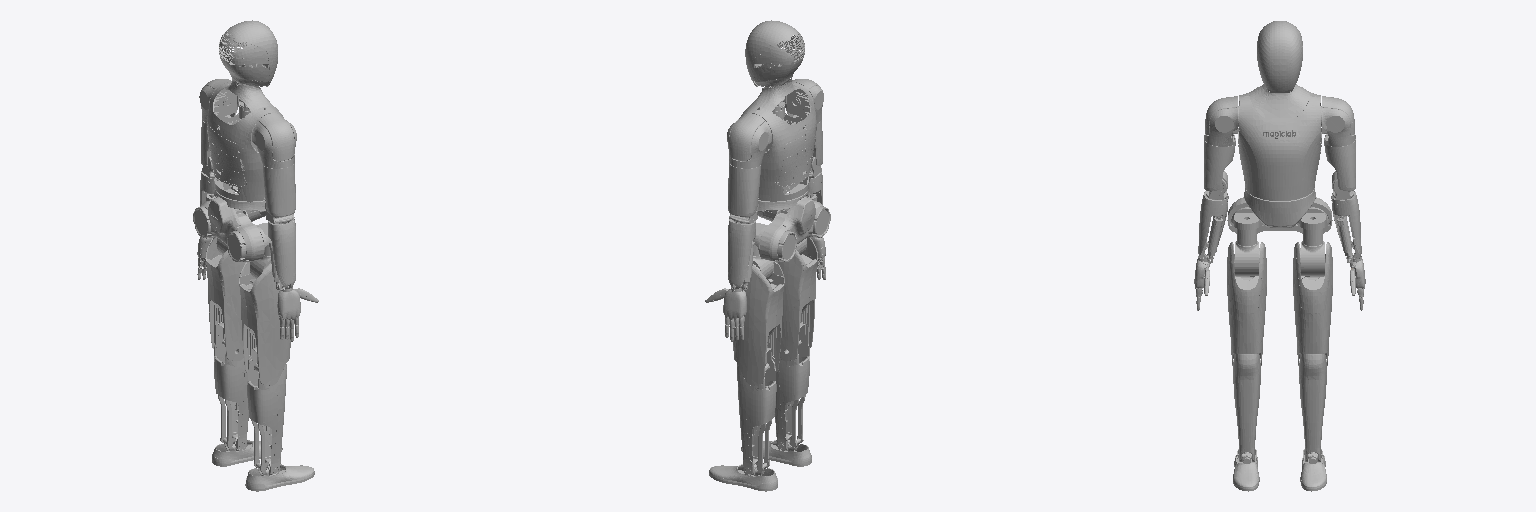
--- Render facts (derived) ---
3 views of the same robot in one strip: view 1: azimuth 30°, elevation 25°; view 2: azimuth 150°, elevation 25°; view 3: azimuth 270°, elevation 25° (orthographic).
Robot: Magicbot-Gen1 — 58 links, 57 joints (52 revolute, 5 fixed); root link pelvis; default pose: all joints at 0.
Links seen in each view (by area): view 1: link_wy, LINK_HIP_PITCH_R, LINK_HIP_PITCH_L, LINK_KNEE_PITCH_R, pelvis, LINK_KNEE_PITCH_L, link_hp, link_ra5, link_ra3, LINK_ANKLE_ROLL_R, link_ra1, link_ra2 (+2 smaller); view 2: link_wy, LINK_HIP_PITCH_L, LINK_HIP_PITCH_R, LINK_KNEE_PITCH_L, pelvis, LINK_KNEE_PITCH_R, link_hp, link_la5, link_la3, LINK_ANKLE_ROLL_L, link_la1, link_la2 (+2 smaller); view 3: link_wy, LINK_HIP_PITCH_L, LINK_HIP_PITCH_R, link_hp, LINK_KNEE_PITCH_R, LINK_KNEE_PITCH_L, link_wr, link_la5, link_ra5, link_la3, link_ra3, LINK_HIP_YAW_L (+8 smaller).
Boxes of the visible links, bbox=[...] form: link_wy: bbox=[207, 36, 283, 201]; LINK_HIP_PITCH_R: bbox=[239, 261, 292, 385]; LINK_HIP_PITCH_L: bbox=[205, 237, 245, 360]; LINK_KNEE_PITCH_R: bbox=[247, 347, 286, 475]; pelvis: bbox=[193, 196, 266, 261]; LINK_KNEE_PITCH_L: bbox=[214, 322, 248, 450]; link_hp: bbox=[219, 20, 277, 86]; link_ra5: bbox=[268, 219, 295, 289]; link_ra3: bbox=[263, 163, 295, 217]; LINK_ANKLE_ROLL_R: bbox=[245, 463, 314, 491]; link_ra1: bbox=[259, 113, 294, 160]; link_ra2: bbox=[252, 116, 296, 168]; link_wy: bbox=[741, 35, 816, 201]; LINK_HIP_PITCH_L: bbox=[733, 261, 784, 385]; LINK_HIP_PITCH_R: bbox=[778, 237, 817, 360]; LINK_KNEE_PITCH_L: bbox=[737, 348, 776, 475]; pelvis: bbox=[757, 197, 830, 261]; LINK_KNEE_PITCH_R: bbox=[775, 322, 809, 450]; link_hp: bbox=[745, 20, 804, 87]; link_la5: bbox=[728, 219, 755, 289]; link_la3: bbox=[728, 163, 760, 217]; LINK_ANKLE_ROLL_L: bbox=[709, 463, 777, 491]; link_la1: bbox=[729, 113, 764, 160]; link_la2: bbox=[727, 116, 771, 168]; link_wy: bbox=[1238, 36, 1321, 200]; LINK_HIP_PITCH_L: bbox=[1293, 242, 1332, 365]; LINK_HIP_PITCH_R: bbox=[1227, 242, 1266, 365]; link_hp: bbox=[1257, 21, 1302, 92]; LINK_KNEE_PITCH_R: bbox=[1233, 354, 1260, 461]; LINK_KNEE_PITCH_L: bbox=[1299, 354, 1326, 461]; link_wr: bbox=[1244, 188, 1315, 227]; link_la5: bbox=[1331, 191, 1361, 262]; link_ra5: bbox=[1198, 191, 1228, 263]; link_la3: bbox=[1324, 139, 1355, 191]; link_ra3: bbox=[1204, 140, 1235, 191]; LINK_HIP_YAW_L: bbox=[1301, 229, 1324, 275].
Bounding box of the posed robot: 0.34 × 0.6094 × 1.74 m (x, y, z).
Meshes: 54 distinct files referenced, 54 mesh visuals loaded (54 binary STL).

URDF robot description (Magicbot-Gen1):
<?xml version="1.0" encoding="utf-8"?>
<robot
  name="Magicbot-Gen1">
  <link
    name="pelvis">
    <inertial>
      <origin
        xyz="-0.08675255 0.00000919 0.01295897"
        rpy="0 0 0" />
      <mass
        value="6.32180704" />
      <inertia
        ixx="0.0850604"
        ixy="0.0000019"
        ixz="-0.00207791"
        iyy="0.01988411"
        iyz="0.00000527"
        izz="0.08386948" />
    </inertial>
    <visual>
      <origin
        xyz="0 0 0"
        rpy="0 0 0" />
      <geometry>
        <mesh
          filename="../meshes/pelvis.STL" />
      </geometry>
      <material
        name="">
        <color
          rgba="0.75294 0.75294 0.75294 1" />
      </material>
    </visual>
    <collision>
      <origin
        xyz="0 0 0"
        rpy="0 0 0" />
      <geometry>
        <mesh
          filename="../meshes/pelvis.STL" />
      </geometry>
    </collision>
  </link>
  <link
    name="LINK_HIP_ROLL_L">
    <inertial>
      <origin
        xyz="-0.0307534 -3.55E-06 0.0214845"
        rpy="0 0 0" />
      <mass
        value="0.47382" />
      <inertia
        ixx="0.00060312"
        ixy="1E-08"
        ixz="-0.00015188"
        iyy="0.0007199"
        iyz="0"
        izz="0.00083822" />
    </inertial>
    <visual>
      <origin
        xyz="0 0 0"
        rpy="0 0 0" />
      <geometry>
        <mesh
          filename="../meshes/LINK_HIP_ROLL_L.STL" />
      </geometry>
      <material
        name="">
        <color
          rgba="0.75294 0.75294 0.75294 1" />
      </material>
    </visual>
    <collision>
      <origin
        xyz="0 0 0"
        rpy="0 0 0" />
      <geometry>
        <mesh
          filename="../meshes/LINK_HIP_ROLL_L.STL" />
      </geometry>
    </collision>
  </link>
  <joint
    name="JOINT_HIP_ROLL_L"
    type="revolute">
    <origin
      xyz="0 0.1175 0"
      rpy="0 0 0" />
    <parent
      link="pelvis" />
    <child
      link="LINK_HIP_ROLL_L" />
    <axis
      xyz="1 0 0" />
    <limit
      lower="-0.349"
      upper="0.523"
      effort="360"
      velocity="15" />
  </joint>
  <link
    name="LINK_HIP_YAW_L">
    <inertial>
      <origin
        xyz="-0.00106248 -0.00273398 -0.08172446"
        rpy="0 0 0" />
      <mass
        value="3.3831774" />
      <inertia
        ixx="0.0025817"
        ixy="-1.749E-05"
        ixz="-5.305E-05"
        iyy="0.01518954"
        iyz="-0.0003372"
        izz="0.00449534" />
    </inertial>
    <visual>
      <origin
        xyz="0 0 0"
        rpy="0 0 0" />
      <geometry>
        <mesh
          filename="../meshes/LINK_HIP_YAW_L.STL" />
      </geometry>
      <material
        name="">
        <color
          rgba="0.75294 0.75294 0.75294 1" />
      </material>
    </visual>
    <collision>
      <origin
        xyz="0 0 0"
        rpy="0 0 0" />
      <geometry>
        <mesh
          filename="../meshes/LINK_HIP_YAW_L.STL" />
      </geometry>
    </collision>
  </link>
  <joint
    name="JOINT_HIP_YAW_L"
    type="revolute">
    <origin
      xyz="0 0 0"
      rpy="0 0 0" />
    <parent
      link="LINK_HIP_ROLL_L" />
    <child
      link="LINK_HIP_YAW_L" />
    <axis
      xyz="0 0 1" />
    <limit
      lower="-0.262"
      upper="0.523"
      effort="60"
      velocity="15" />
  </joint>
  <link
    name="LINK_HIP_PITCH_L">
    <inertial>
      <origin
        xyz="-0.01293367 -0.00410579 -0.15592136"
        rpy="0 0 0" />
      <mass
        value="5.04878347" />
      <inertia
        ixx="0.05451915"
        ixy="4.351E-05"
        ixz="-0.00131968"
        iyy="0.05697118"
        iyz="-8.554E-05"
        izz="0.01571501" />
    </inertial>
    <visual>
      <origin
        xyz="0 0 0"
        rpy="0 0 0" />
      <geometry>
        <mesh
          filename="../meshes/LINK_HIP_PITCH_L.STL" />
      </geometry>
      <material
        name="">
        <color
          rgba="0.75294 0.75294 0.75294 1" />
      </material>
    </visual>
    <collision>
      <origin
        xyz="0 0 0"
        rpy="0 0 0" />
      <geometry>
        <mesh
          filename="../meshes/LINK_HIP_PITCH_L.STL" />
      </geometry>
    </collision>
  </link>
  <joint
    name="JOINT_HIP_PITCH_L"
    type="revolute">
    <origin
      xyz="0 0 -0.118"
      rpy="0 0 0" />
    <parent
      link="LINK_HIP_YAW_L" />
    <child
      link="LINK_HIP_PITCH_L" />
    <axis
      xyz="0 1 0" />
    <limit
      lower="-2.093"
      upper="0.698"
      effort="360"
      velocity="15" />
  </joint>
  <link
    name="LINK_KNEE_PITCH_L">
    <inertial>
      <origin
        xyz="0.02883341 0.00126447 -0.12048006"
        rpy="0 0 0" />
      <mass
        value="3.37617301" />
      <inertia
        ixx="0.04840952"
        ixy="3.72E-05"
        ixz="0.00187978"
        iyy="0.04874275"
        iyz="-0.00049369"
        izz="0.00494927" />
    </inertial>
    <visual>
      <origin
        xyz="0 0 0"
        rpy="0 0 0" />
      <geometry>
        <mesh
          filename="../meshes/LINK_KNEE_PITCH_L.STL" />
      </geometry>
      <material
        name="">
        <color
          rgba="0.75294 0.75294 0.75294 1" />
      </material>
    </visual>
    <collision>
      <origin
        xyz="0 0 0"
        rpy="0 0 0" />
      <geometry>
        <mesh
          filename="../meshes/LINK_KNEE_PITCH_L.STL" />
      </geometry>
    </collision>
  </link>
  <joint
    name="JOINT_KNEE_PITCH_L"
    type="revolute">
    <origin
      xyz="-0.03295 0 -0.3875"
      rpy="0 0 0" />
    <parent
      link="LINK_HIP_PITCH_L" />
    <child
      link="LINK_KNEE_PITCH_L" />
    <axis
      xyz="0 1 0" />
    <limit
      lower="0"
      upper="2.617"
      effort="360"
      velocity="15" />
  </joint>
  <link
    name="LINK_ANKLE_PITCH_L">
    <inertial>
      <origin
        xyz="0 0 -0.00869504"
        rpy="0 0 0" />
      <mass
        value="0.0724143" />
      <inertia
        ixx="1.073E-05"
        ixy="0"
        ixz="0"
        iyy="1.156E-05"
        iyz="0"
        izz="1.127E-05" />
    </inertial>
    <visual>
      <origin
        xyz="0 0 0"
        rpy="0 0 0" />
      <geometry>
        <mesh
          filename="../meshes/LINK_ANKLE_PITCH_L.STL" />
      </geometry>
      <material
        name="">
        <color
          rgba="0.75294 0.75294 0.75294 1" />
      </material>
    </visual>
    <collision>
      <origin
        xyz="0 0 0"
        rpy="0 0 0" />
      <geometry>
        <mesh
          filename="../meshes/LINK_ANKLE_PITCH_L.STL" />
      </geometry>
    </collision>
  </link>
  <joint
    name="JOINT_ANKLE_PITCH_L"
    type="revolute">
    <origin
      xyz="0.035056 0 -0.3867"
      rpy="0 0 0" />
    <parent
      link="LINK_KNEE_PITCH_L" />
    <child
      link="LINK_ANKLE_PITCH_L" />
    <axis
      xyz="0 1 0" />
    <limit
      lower="-1.308"
      upper="0.523"
      effort="120"
      velocity="15" />
  </joint>
  <link
    name="LINK_ANKLE_ROLL_L">
    <inertial>
      <origin
        xyz="0.01816289 0.00118755 -0.02613973"
        rpy="0 0 0" />
      <mass
        value="0.80130806" />
      <inertia
        ixx="0.00072313"
        ixy="-6.6E-07"
        ixz="0.0004055"
        iyy="0.00377636"
        iyz="9.94E-06"
        izz="0.00379858" />
    </inertial>
    <visual>
      <origin
        xyz="0 0 0"
        rpy="0 0 0" />
      <geometry>
        <mesh
          filename="../meshes/LINK_ANKLE_ROLL_L.STL" />
      </geometry>
      <material
        name="">
        <color
          rgba="0.75294 0.75294 0.75294 1" />
      </material>
    </visual>
    <collision>
      <origin
        xyz="0 0 0"
        rpy="0 0 0" />
      <geometry>
        <mesh
          filename="../meshes/LINK_ANKLE_ROLL_L.STL" />
      </geometry>
    </collision>
  </link>
  <joint
    name="JOINT_ANKLE_ROLL_L"
    type="revolute">
    <origin
      xyz="0 0 -0.01"
      rpy="0 0 0" />
    <parent
      link="LINK_ANKLE_PITCH_L" />
    <child
      link="LINK_ANKLE_ROLL_L" />
    <axis
      xyz="1 0 0" />
    <limit
      lower="-0.349"
      upper="0.349"
      effort="120"
      velocity="15" />
  </joint>
  <link
    name="LINK_HIP_ROLL_R">
    <inertial>
      <origin
        xyz="-0.0307534 -3.59E-06 0.0214845"
        rpy="0 0 0" />
      <mass
        value="0.47383286" />
      <inertia
        ixx="0.00060312"
        ixy="1E-08"
        ixz="-0.00015188"
        iyy="0.0007199"
        iyz="0"
        izz="0.00083822" />
    </inertial>
    <visual>
      <origin
        xyz="0 0 0"
        rpy="0 0 0" />
      <geometry>
        <mesh
          filename="../meshes/LINK_HIP_ROLL_R.STL" />
      </geometry>
      <material
        name="">
        <color
          rgba="0.75294 0.75294 0.75294 1" />
      </material>
    </visual>
    <collision>
      <origin
        xyz="0 0 0"
        rpy="0 0 0" />
      <geometry>
        <mesh
          filename="../meshes/LINK_HIP_ROLL_R.STL" />
      </geometry>
    </collision>
  </link>
  <joint
    name="JOINT_HIP_ROLL_R"
    type="revolute">
    <origin
      xyz="0 -0.1175 0"
      rpy="0 0 0" />
    <parent
      link="pelvis" />
    <child
      link="LINK_HIP_ROLL_R" />
    <axis
      xyz="1 0 0" />
    <limit
      lower="-0.523"
      upper="0.349"
      effort="360"
      velocity="15" />
  </joint>
  <link
    name="LINK_HIP_YAW_R">
    <inertial>
      <origin
        xyz="-0.00100961 0.00273909 -0.08170498"
        rpy="0 0 0" />
      <mass
        value="3.38317107" />
      <inertia
        ixx="0.01444072"
        ixy="2.4146E-05"
        ixz="-5.55E-05"
        iyy="0.01580205"
        iyz="0.00031688"
        izz="0.00469921" />
    </inertial>
    <visual>
      <origin
        xyz="0 0 0"
        rpy="0 0 0" />
      <geometry>
        <mesh
          filename="../meshes/LINK_HIP_YAW_R.STL" />
      </geometry>
      <material
        name="">
        <color
          rgba="0.75294 0.75294 0.75294 1" />
      </material>
    </visual>
    <collision>
      <origin
        xyz="0 0 0"
        rpy="0 0 0" />
      <geometry>
        <mesh
          filename="../meshes/LINK_HIP_YAW_R.STL" />
      </geometry>
    </collision>
  </link>
  <joint
    name="JOINT_HIP_YAW_R"
    type="revolute">
    <origin
      xyz="0 0 0"
      rpy="0 0 0" />
    <parent
      link="LINK_HIP_ROLL_R" />
    <child
      link="LINK_HIP_YAW_R" />
    <axis
      xyz="0 0 1" />
    <limit
      lower="-0.523"
      upper="0.262"
      effort="60"
      velocity="15" />
  </joint>
  <link
    name="LINK_HIP_PITCH_R">
    <inertial>
      <origin
        xyz="-0.01160838 0.00408093 -0.15539802"
        rpy="0 0 0" />
      <mass
        value="5.04801978" />
      <inertia
        ixx="0.05386062"
        ixy="-0.00016145"
        ixz="-0.0003202"
        iyy="0.05538209"
        iyz="1.298E-05"
        izz="0.01474923" />
    </inertial>
    <visual>
      <origin
        xyz="0 0 0"
        rpy="0 0 0" />
      <geometry>
        <mesh
          filename="../meshes/LINK_HIP_PITCH_R.STL" />
      </geometry>
      <material
        name="">
        <color
          rgba="0.75294 0.75294 0.75294 1" />
      </material>
    </visual>
    <collision>
      <origin
        xyz="0 0 0"
        rpy="0 0 0" />
      <geometry>
        <mesh
          filename="../meshes/LINK_HIP_PITCH_R.STL" />
      </geometry>
    </collision>
  </link>
  <joint
    name="JOINT_HIP_PITCH_R"
    type="revolute">
    <origin
      xyz="0 0 -0.118"
      rpy="0 0 0" />
    <parent
      link="LINK_HIP_YAW_R" />
    <child
      link="LINK_HIP_PITCH_R" />
    <axis
      xyz="0 1 0" />
    <limit
      lower="-2.093"
      upper="0.698"
      effort="360"
      velocity="15" />
  </joint>
  <link
    name="LINK_KNEE_PITCH_R">
    <inertial>
      <origin
        xyz="0.02881522 -0.00126424 -0.12052803"
        rpy="0 0 0" />
      <mass
        value="3.37418513" />
      <inertia
        ixx="0.04839412"
        ixy="-3.873E-05"
        ixz="0.00187255"
        iyy="0.04872791"
        iyz="0.00049571"
        izz="0.00494635" />
    </inertial>
    <visual>
      <origin
        xyz="0 0 0"
        rpy="0 0 0" />
      <geometry>
        <mesh
          filename="../meshes/LINK_KNEE_PITCH_R.STL" />
      </geometry>
      <material
        name="">
        <color
          rgba="0.75294 0.75294 0.75294 1" />
      </material>
    </visual>
    <collision>
      <origin
        xyz="0 0 0"
        rpy="0 0 0" />
      <geometry>
        <mesh
          filename="../meshes/LINK_KNEE_PITCH_R.STL" />
      </geometry>
    </collision>
  </link>
  <joint
    name="JOINT_KNEE_PITCH_R"
    type="revolute">
    <origin
      xyz="-0.032951 0 -0.3875"
      rpy="0 0 0" />
    <parent
      link="LINK_HIP_PITCH_R" />
    <child
      link="LINK_KNEE_PITCH_R" />
    <axis
      xyz="0 1 0" />
    <limit
      lower="0"
      upper="2.617"
      effort="360"
      velocity="15" />
  </joint>
  <link
    name="LINK_ANKLE_PITCH_R">
    <inertial>
      <origin
        xyz="-1.27E-06 -4.51E-06 -0.00869518"
        rpy="0 0 0" />
      <mass
        value="0.0724143" />
      <inertia
        ixx="1.073E-05"
        ixy="0"
        ixz="0"
        iyy="1.156E-05"
        iyz="0"
        izz="1.127E-05" />
    </inertial>
    <visual>
      <origin
        xyz="0 0 0"
        rpy="0 0 0" />
      <geometry>
        <mesh
          filename="../meshes/LINK_ANKLE_PITCH_R.STL" />
      </geometry>
      <material
        name="">
        <color
          rgba="0.75294 0.75294 0.75294 1" />
      </material>
    </visual>
    <collision>
      <origin
        xyz="0 0 0"
        rpy="0 0 0" />
      <geometry>
        <mesh
          filename="../meshes/LINK_ANKLE_PITCH_R.STL" />
      </geometry>
    </collision>
  </link>
  <joint
    name="JOINT_ANKLE_PITCH_R"
    type="revolute">
    <origin
      xyz="0.035003 0 -0.3867"
      rpy="0 0 0" />
    <parent
      link="LINK_KNEE_PITCH_R" />
    <child
      link="LINK_ANKLE_PITCH_R" />
    <axis
      xyz="0 1 0" />
    <limit
      lower="-1.308"
      upper="0.523"
      effort="120"
      velocity="15" />
  </joint>
  <link
    name="LINK_ANKLE_ROLL_R">
    <inertial>
      <origin
        xyz="0.01734636 -0.00124434 -0.02593559"
        rpy="0 0 0" />
      <mass
        value="0.79424534" />
      <inertia
        ixx="0.00071651"
        ixy="-0.00000315"
        ixz="0.00039418"
        iyy="0.00366741"
        iyz="-0.00001032"
        izz="0.00368907" />
    </inertial>
    <visual>
      <origin
        xyz="0 0 0"
        rpy="0 0 0" />
      <geometry>
        <mesh
          filename="../meshes/LINK_ANKLE_ROLL_R.STL" />
      </geometry>
      <material
        name="">
        <color
          rgba="0.75294 0.75294 0.75294 1" />
      </material>
    </visual>
    <collision>
      <origin
        xyz="0 0 0"
        rpy="0 0 0" />
      <geometry>
        <mesh
          filename="../meshes/LINK_ANKLE_ROLL_R.STL" />
      </geometry>
    </collision>
  </link>
  <joint
    name="JOINT_ANKLE_ROLL_R"
    type="revolute">
    <origin
      xyz="0 0 -0.01"
      rpy="4.0892E-05 0.00014855 0" />
    <parent
      link="LINK_ANKLE_PITCH_R" />
    <child
      link="LINK_ANKLE_ROLL_R" />
    <axis
      xyz="1 0 0" />
    <limit
      lower="-0.349"
      upper="0.349"
      effort="120"
      velocity="15" />
  </joint>
  <link
    name="link_wr">
    <inertial>
      <origin
        xyz="-0.01476378 -5.405E-05 0.01059222"
        rpy="0 0 0" />
      <mass
        value="2.52447836" />
      <inertia
        ixx="0.0053535"
        ixy="1.791E-05"
        ixz="-0.00045241"
        iyy="0.01047452"
        iyz="-4.49E-06"
        izz="0.01207148" />
    </inertial>
    <visual>
      <origin
        xyz="0 0 0"
        rpy="0 0 0" />
      <geometry>
        <mesh
          filename="../meshes/link_wr.STL" />
      </geometry>
      <material
        name="">
        <color
          rgba="0.75294 0.75294 0.75294 1" />
      </material>
    </visual>
    <collision>
      <origin
        xyz="0 0 0"
        rpy="0 0 0" />
      <geometry>
        <mesh
          filename="../meshes/link_wr.STL" />
      </geometry>
    </collision>
  </link>
  <joint
    name="joint_wr"
    type="revolute">
    <origin
      xyz="-0.016 0 0.083"
      rpy="0 0 0" />
    <parent
      link="pelvis" />
    <child
      link="link_wr" />
    <axis
      xyz="1 0 0" />
    <limit
      lower="-0.349"
      upper="0.349"
      effort="200"
      velocity="5" />
  </joint>
  <link
    name="link_wy">
    <inertial>
      <origin
        xyz="-0.01668516 -0.00085362 0.24665805"
        rpy="0 0 0" />
      <mass
        value="15.00776677" />
      <inertia
        ixx="0.20052034"
        ixy="9.235E-05"
        ixz="0.00449781"
        iyy="0.15246472"
        iyz="-0.00140118"
        izz="0.10823744" />
    </inertial>
    <visual>
      <origin
        xyz="0 0 0"
        rpy="0 0 0" />
      <geometry>
        <mesh
          filename="../meshes/link_wy.STL" />
      </geometry>
      <material
        name="">
        <color
          rgba="0.75294 0.75294 0.75294 1" />
      </material>
    </visual>
    <collision>
      <origin
        xyz="0 0 0"
        rpy="0 0 0" />
      <geometry>
        <mesh
          filename="../meshes/link_wy.STL" />
      </geometry>
    </collision>
  </link>
  <joint
    name="joint_wy"
    type="revolute">
    <origin
      xyz="0 0 0"
      rpy="0 0 0" />
    <parent
      link="link_wr" />
    <child
      link="link_wy" />
    <axis
      xyz="0 0 1" />
    <limit
      lower="-1.57"
      upper="1.57"
      effort="100"
      velocity="5" />
  </joint>
  <link
    name="link_hy">
    <inertial>
      <origin
        xyz="-0.00331412 0.00160025 -0.06645069"
        rpy="0 0 0" />
      <mass
        value="1.30579318" />
      <inertia
        ixx="0.00609465"
        ixy="7.9E-07"
        ixz="0.00029629"
        iyy="0.0061687"
        iyz="-0.00015242"
        izz="0.00089446" />
    </inertial>
    <visual>
      <origin
        xyz="0 0 0"
        rpy="0 0 0" />
      <geometry>
        <mesh
          filename="../meshes/link_hy.STL" />
      </geometry>
      <material
        name="">
        <color
          rgba="0.75294 0.75294 0.75294 1" />
      </material>
    </visual>
    <collision>
      <origin
        xyz="0 0 0"
        rpy="0 0 0" />
      <geometry>
        <mesh
          filename="../meshes/link_hy.STL" />
      </geometry>
    </collision>
  </link>
  <joint
    name="joint_hy"
    type="revolute">
    <origin
      xyz="-0.0059657 0 0.50108"
      rpy="0 0 0" />
    <parent
      link="link_wy" />
    <child
      link="link_hy" />
    <axis
      xyz="0 0 1" />
    <limit
      lower="-1.047"
      upper="1.047"
      effort="60"
      velocity="15" />
  </joint>
  <link
    name="link_hp">
    <inertial>
      <origin
        xyz="0.01957006 0.00043733 0.08360341"
        rpy="0 0 0" />
      <mass
        value="1.75103035" />
      <inertia
        ixx="0.00836393"
        ixy="6.102E-05"
        ixz="0.0010216"
        iyy="0.0100424"
        iyz="-3.969E-05"
        izz="0.00668716" />
    </inertial>
    <visual>
      <origin
        xyz="0 0 0"
        rpy="0 0 0" />
      <geometry>
        <mesh
          filename="../meshes/link_hp.STL" />
      </geometry>
      <material
        name="">
        <color
          rgba="0.75294 0.75294 0.75294 1" />
      </material>
    </visual>
    <collision>
      <origin
        xyz="0 0 0"
        rpy="0 0 0" />
      <geometry>
        <mesh
          filename="../meshes/link_hp.STL" />
      </geometry>
    </collision>
  </link>
  <joint
    name="joint_hp"
    type="revolute">
    <origin
      xyz="-0.0065 2.3658E-05 0"
      rpy="0 0 0" />
    <parent
      link="link_hy" />
    <child
      link="link_hp" />
    <axis
      xyz="0 1 0" />
    <limit
      lower="-0.349"
      upper="0.349"
      effort="60"
      velocity="15" />
  </joint>
  <link name="link_head_rgbd">
  </link>
  <joint name="joint_head_rgbd" type="fixed">
    <parent link="link_hp"/>
    <child link="link_head_rgbd"/>
    <origin rpy="0.0 2.1198769095 0.0" xyz="0.06093 0.0325 -0.02199"/>
  </joint>
  <link name="link_head_rgb_f">
  </link>
  <joint name="joint_head_rgb_f" type="fixed">
    <parent link="link_hp"/>
    <child link="link_head_rgb_f"/>
    <origin rpy="0.0 1.76278 0.0" xyz="0.09628 0.000 0.03975"/>
  </joint>
  <link name="link_head_rgb_l">
  </link>
  <joint name="joint_head_rgb_l" type="fixed">
    <parent link="link_head_rgb_f"/>
    <child link="link_head_rgb_l"/>
    <origin rpy="-0.61087 0.0 0.0" xyz="0.00682 0.03211 0.0"/>
  </joint>
  <link name="link_head_rgb_r">
  </link>
  <joint name="joint_head_rgb_r" type="fixed">
    <parent link="link_head_rgb_f"/>
    <child link="link_head_rgb_r"/>
    <origin rpy="0.61087 0.0 0.0" xyz="0.00682 -0.03211 0.0"/>
  </joint>
  <link
    name="link_la1">
    <inertial>
      <origin
        xyz="-0.0018413 -0.0024301 -0.00037468"
        rpy="0 0 0" />
      <mass
        value="1.4531" />
      <inertia
        ixx="0.0018652"
        ixy="-6.3E-07"
        ixz="4.1E-07"
        iyy="0.001952"
        iyz="3.302E-05"
        izz="0.0020047" />
    </inertial>
    <visual>
      <origin
        xyz="0 0 0"
        rpy="0 0 0" />
      <geometry>
        <mesh
          filename="../meshes/link_la1.STL" />
      </geometry>
      <material
        name="">
        <color
          rgba="0.75294 0.75294 0.75294 1" />
      </material>
    </visual>
    <collision>
      <origin
        xyz="0 0 0"
        rpy="0 0 0" />
      <geometry>
        <mesh
          filename="../meshes/link_la1.STL" />
      </geometry>
    </collision>
  </link>
  <joint
    name="joint_la1"
    type="revolute">
    <origin
      xyz="-0.0078982 0.19799 0.346"
      rpy="0 0 0" />
    <parent
      link="link_wy" />
    <child
      link="link_la1" />
    <axis
      xyz="0 1 0" />
    <limit
      lower="-2.756"
      upper="2.756"
      effort="110"
      velocity="5" />
  </joint>
  <link
    name="link_la2">
    <inertial>
      <origin
        xyz="-0.00019279 0.0045265 -0.044564"
        rpy="0 0 0" />
      <mass
        value="0.53748" />
      <inertia
        ixx="0.0018012"
        ixy="-1E-07"
        ixz="6.25E-06"
        iyy="0.0025224"
        iyz="0.00019853"
        izz="0.0016985" />
    </inertial>
    <visual>
      <origin
        xyz="0 0 0"
        rpy="0 0 0" />
      <geometry>
        <mesh
          filename="../meshes/link_la2.STL" />
      </geometry>
      <material
        name="">
        <color
          rgba="0.75294 0.75294 0.75294 1" />
      </material>
    </visual>
    <collision>
      <origin
        xyz="0 0 0"
        rpy="0 0 0" />
      <geometry>
        <mesh
          filename="../meshes/link_la2.STL" />
      </geometry>
    </collision>
  </link>
  <joint
    name="joint_la2"
    type="revolute">
    <origin
      xyz="0 0 0"
      rpy="0 0 0" />
    <parent
      link="link_la1" />
    <child
      link="link_la2" />
    <axis
      xyz="1 0 0" />
    <limit
      lower="-0.262"
      upper="2.878"
      effort="110"
      velocity="5" />
  </joint>
  <link
    name="link_la3">
    <inertial>
      <origin
        xyz="-0.0018654 -0.00021946 -0.087638"
        rpy="0 0 0" />
      <mass
        value="1.784" />
      <inertia
        ixx="0.007454"
        ixy="-1.558E-05"
        ixz="-0.00021278"
        iyy="0.0074607"
        iyz="-0.00018909"
        izz="0.0017341" />
    </inertial>
    <visual>
      <origin
        xyz="0 0 0"
        rpy="0 0 0" />
      <geometry>
        <mesh
          filename="../meshes/link_la3.STL" />
      </geometry>
      <material
        name="">
        <color
          rgba="0.75294 0.75294 0.75294 1" />
      </material>
    </visual>
    <collision>
      <origin
        xyz="0 0 0"
        rpy="0 0 0" />
      <geometry>
        <mesh
          filename="../meshes/link_la3.STL" />
      </geometry>
    </collision>
  </link>
  <joint
    name="joint_la3"
    type="revolute">
    <origin
      xyz="0 0.015686 -0.10553"
      rpy="0.087267 0 0" />
    <parent
      link="link_la2" />
    <child
      link="link_la3" />
    <axis
      xyz="0 0 1" />
    <limit
      lower="-2.617"
      upper="2.617"
      effort="100"
      velocity="5" />
  </joint>
  <link
    name="link_la4">
    <inertial>
      <origin
        xyz="-0.0013088 0.00091464 0.02382"
        rpy="0 0 0" />
      <mass
        value="0.17421" />
      <inertia
        ixx="0.00014161"
        ixy="-4.81E-06"
        ixz="9.24E-06"
        iyy="0.00026983"
        iyz="-4.3E-07"
        izz="0.00022317" />
    </inertial>
    <visual>
      <origin
        xyz="0 0 0"
        rpy="0 0 0" />
      <geometry>
        <mesh
          filename="../meshes/link_la4.STL" />
      </geometry>
      <material
        name="">
        <color
          rgba="0.75294 0.75294 0.75294 1" />
      </material>
    </visual>
    <collision>
      <origin
        xyz="0 0 0"
        rpy="0 0 0" />
      <geometry>
        <mesh
          filename="../meshes/link_la4.STL" />
      </geometry>
    </collision>
  </link>
  <joint
    name="joint_la4"
    type="revolute">
    <origin
      xyz="-0.00074295 -0.0049956 -0.15199"
      rpy="-0.00018277 0.0001556 -4.8773E-05" />
    <parent
      link="link_la3" />
    <child
      link="link_la4" />
    <axis
      xyz="1 0 0" />
    <limit
      lower="-2.215"
      upper="0.174"
      effort="100"
      velocity="5" />
  </joint>
  <link
    name="link_la5">
    <inertial>
      <origin
        xyz="3.761E-05 -0.00071947 -0.15533"
        rpy="0 0 0" />
      <mass
        value="1.9293" />
      <inertia
        ixx="0.012532"
        ixy="1.3E-07"
        ixz="-4.13E-06"
        iyy="0.012776"
        iyz="0.00020442"
        izz="0.0017523" />
    </inertial>
    <visual>
      <origin
        xyz="0 0 0"
        rpy="0 0 0" />
      <geometry>
        <mesh
          filename="../meshes/link_la5.STL" />
      </geometry>
      <material
        name="">
        <color
          rgba="0.75294 0.75294 0.75294 1" />
      </material>
    </visual>
    <collision>
      <origin
        xyz="0 0 0"
        rpy="0 0 0" />
      <geometry>
        <mesh
          filename="../meshes/link_la5.STL" />
      </geometry>
    </collision>
  </link>
  <joint
    name="joint_la5"
    type="revolute">
    <origin
      xyz="0 0 0"
      rpy="0 0 0" />
    <parent
      link="link_la4" />
    <child
      link="link_la5" />
    <axis
      xyz="0 0 1" />
    <limit
      lower="-2.913"
      upper="2.913"
      effort="100"
      velocity="5" />
  </joint>
  <link
    name="link_la6">
    <inertial>
      <origin
        xyz="0 -0.010485 -1.319E-05"
        rpy="0 0 0" />
      <mass
        value="0.022425" />
      <inertia
        ixx="2.56E-06"
        ixy="0"
        ixz="0"
        iyy="4.1E-07"
        iyz="0"
        izz="2.68E-06" />
    </inertial>
    <visual>
      <origin
        xyz="0 0 0"
        rpy="0 0 0" />
      <geometry>
        <mesh
          filename="../meshes/link_la6.STL" />
      </geometry>
      <material
        name="">
        <color
          rgba="0.75294 0.75294 0.75294 1" />
      </material>
    </visual>
    <collision>
      <origin
        xyz="0 0 0"
        rpy="0 0 0" />
      <geometry>
        <mesh
          filename="../meshes/link_la6.STL" />
      </geometry>
    </collision>
  </link>
  <joint
    name="joint_la6"
    type="revolute">
    <origin
      xyz="0 0.02371 -0.29785"
      rpy="0 0 0" />
    <parent
      link="link_la5" />
    <child
      link="link_la6" />
    <axis
      xyz="1 0 0" />
    <limit
      lower="-1.099"
      upper="0.855"
      effort="40"
      velocity="5" />
  </joint>

  <!-- left hand -->
    <link
    name="hand_link">
    <inertial>
      <origin
        xyz="0.0015901 -0.00042529 -0.066296"
        rpy="0 0 0" />
      <mass
        value="0.37265" />
      <inertia
        ixx="0.00032635"
        ixy="2.66E-06"
        ixz="-1.728E-05"
        iyy="0.0004347"
        iyz="-1.723E-05"
        izz="0.00017469" />
    </inertial>
    <visual>
      <origin
        xyz="0 0 0"
        rpy="0 0 0" />
      <geometry>
        <mesh
          filename="../meshes/hand_link.STL" />
      </geometry>
      <material
        name="">
        <color
          rgba="0.75294 0.75294 0.75294 1" />
      </material>
    </visual>
    <collision>
      <origin
        xyz="0 0 0"
        rpy="0 0 0" />
      <geometry>
        <mesh
          filename="../meshes/hand_link.STL" />
      </geometry>
    </collision>
  </link>
  <joint
    name="joint_la7"
    type="revolute">
    <origin
      xyz="0 0 0"
      rpy="0 0 0" />
    <parent
      link="link_la6" />
    <child
      link="hand_link" />
    <axis
      xyz="0 1 0" />
    <limit
      lower="-0.857"
      upper="1.2036"
      effort="0"
      velocity="0" />
  </joint>


  <link
    name="link_ra1">
    <inertial>
      <origin
        xyz="0.0018431 0.0024301 -0.00037468"
        rpy="0 0 0" />
      <mass
        value="1.4531" />
      <inertia
        ixx="0.0018652"
        ixy="-6.3E-07"
        ixz="-4.1E-07"
        iyy="0.001952"
        iyz="-3.302E-05"
        izz="0.0020047" />
    </inertial>
    <visual>
      <origin
        xyz="0 0 0"
        rpy="0 0 0" />
      <geometry>
        <mesh
          filename="../meshes/link_ra1.STL" />
      </geometry>
      <material
        name="">
        <color
          rgba="0.75294 0.75294 0.75294 1" />
      </material>
    </visual>
    <collision>
      <origin
        xyz="0 0 0"
        rpy="0 0 0" />
      <geometry>
        <mesh
          filename="../meshes/link_ra1.STL" />
      </geometry>
    </collision>
  </link>
  <joint
    name="joint_ra1"
    type="revolute">
    <origin
      xyz="-0.0079 -0.198 0.346"
      rpy="0 0 0" />
    <parent
      link="link_wy" />
    <child
      link="link_ra1" />
    <axis
      xyz="0 1 0" />
    <limit
      lower="-2.756"
      upper="2.756"
      effort="110"
      velocity="5" />
  </joint>
  <link
    name="link_ra2">
    <inertial>
      <origin
        xyz="0.00019469 -0.0045264 -0.044564"
        rpy="0 0 0" />
      <mass
        value="0.53748" />
      <inertia
        ixx="0.0018012"
        ixy="-1.1E-07"
        ixz="-6.24E-06"
        iyy="0.0025224"
        iyz="-0.00019853"
        izz="0.0016985" />
    </inertial>
    <visual>
      <origin
        xyz="0 0 0"
        rpy="0 0 0" />
      <geometry>
        <mesh
          filename="../meshes/link_ra2.STL" />
      </geometry>
      <material
        name="">
        <color
          rgba="0.75294 0.75294 0.75294 1" />
      </material>
    </visual>
    <collision>
      <origin
        xyz="0 0 0"
        rpy="0 0 0" />
      <geometry>
        <mesh
          filename="../meshes/link_ra2.STL" />
      </geometry>
    </collision>
  </link>
  <joint
    name="joint_ra2"
    type="revolute">
    <origin
      xyz="0 0 0"
      rpy="0 0 0" />
    <parent
      link="link_ra1" />
    <child
      link="link_ra2" />
    <axis
      xyz="1 0 0" />
    <limit
      lower="-2.878"
      upper="0.262"
      effort="110"
      velocity="5" />
  </joint>
  <link
    name="link_ra3">
    <inertial>
      <origin
        xyz="0.0018654 0.00021946 -0.087638"
        rpy="0 0 0" />
      <mass
        value="1.784" />
      <inertia
        ixx="0.007454"
        ixy="-1.558E-05"
        ixz="0.00021278"
        iyy="0.0074607"
        iyz="0.00018909"
        izz="0.0017341" />
    </inertial>
    <visual>
      <origin
        xyz="0 0 0"
        rpy="0 0 0" />
      <geometry>
        <mesh
          filename="../meshes/link_ra3.STL" />
      </geometry>
      <material
        name="">
        <color
          rgba="0.75294 0.75294 0.75294 1" />
      </material>
    </visual>
    <collision>
      <origin
        xyz="0 0 0"
        rpy="0 0 0" />
      <geometry>
        <mesh
          filename="../meshes/link_ra3.STL" />
      </geometry>
    </collision>
  </link>
  <joint
    name="joint_ra3"
    type="revolute">
    <origin
      xyz="1.2039E-05 -0.015686 -0.10553"
      rpy="-0.087267 0 0" />
    <parent
      link="link_ra2" />
    <child
      link="link_ra3" />
    <axis
      xyz="0 0 1" />
    <limit
      lower="-2.617"
      upper="2.617"
      effort="100"
      velocity="5" />
  </joint>
  <link
    name="link_ra4">
    <inertial>
      <origin
        xyz="0.0013088 -0.00091464 -0.02382"
        rpy="0 0 0" />
      <mass
        value="0.17421" />
      <inertia
        ixx="0.00014161"
        ixy="-4.81E-06"
        ixz="-9.24E-06"
        iyy="0.00026983"
        iyz="4.3E-07"
        izz="0.00022317" />
    </inertial>
    <visual>
      <origin
        xyz="0 0 0"
        rpy="0 0 0" />
      <geometry>
        <mesh
          filename="../meshes/link_ra4.STL" />
      </geometry>
      <material
        name="">
        <color
          rgba="0.75294 0.75294 0.75294 1" />
      </material>
    </visual>
    <collision>
      <origin
        xyz="0 0 0"
        rpy="0 0 0" />
      <geometry>
        <mesh
          filename="../meshes/link_ra4.STL" />
      </geometry>
    </collision>
  </link>
  <joint
    name="joint_ra4"
    type="revolute">
    <origin
      xyz="0.00074295 0.0049956 -0.15199"
      rpy="0.00018277 -0.0001556 -4.8773E-05" />
    <parent
      link="link_ra3" />
    <child
      link="link_ra4" />
    <axis
      xyz="1 0 0" />
    <limit
      lower="-0.174"
      upper="2.215"
      effort="100"
      velocity="5" />
  </joint>
  <link
    name="link_ra5">
    <inertial>
      <origin
        xyz="-3.761E-05 0.00071947 -0.15533"
        rpy="0 0 0" />
      <mass
        value="1.9293" />
      <inertia
        ixx="0.012532"
        ixy="1.3E-07"
        ixz="4.13E-06"
        iyy="0.012776"
        iyz="-0.00020442"
        izz="0.0017523" />
    </inertial>
    <visual>
      <origin
        xyz="0 0 0"
        rpy="0 0 0" />
      <geometry>
        <mesh
          filename="../meshes/link_ra5.STL" />
      </geometry>
      <material
        name="">
        <color
          rgba="0.75294 0.75294 0.75294 1" />
      </material>
    </visual>
    <collision>
      <origin
        xyz="0 0 0"
        rpy="0 0 0" />
      <geometry>
        <mesh
          filename="../meshes/link_ra5.STL" />
      </geometry>
    </collision>
  </link>
  <joint
    name="joint_ra5"
    type="revolute">
    <origin
      xyz="0 0 0"
      rpy="0 0 0" />
    <parent
      link="link_ra4" />
    <child
      link="link_ra5" />
    <axis
      xyz="0 0 1" />
    <limit
      lower="-2.913"
      upper="2.913"
      effort="100"
      velocity="5" />
  </joint>
  <link
    name="link_ra6">
    <inertial>
      <origin
        xyz="0 0.010485 -1.319E-05"
        rpy="0 0 0" />
      <mass
        value="0.022425" />
      <inertia
        ixx="2.56E-06"
        ixy="0"
        ixz="0"
        iyy="4.1E-07"
        iyz="0"
        izz="2.68E-06" />
    </inertial>
    <visual>
      <origin
        xyz="0 0 0"
        rpy="0 0 0" />
      <geometry>
        <mesh
          filename="../meshes/link_ra6.STL" />
      </geometry>
      <material
        name="">
        <color
          rgba="0.75294 0.75294 0.75294 1" />
      </material>
    </visual>
    <collision>
      <origin
        xyz="0 0 0"
        rpy="0 0 0" />
      <geometry>
        <mesh
          filename="../meshes/link_ra6.STL" />
      </geometry>
    </collision>
  </link>
  <joint
    name="joint_ra6"
    type="revolute">
    <origin
      xyz="0 -0.02371 -0.29785"
      rpy="0 0 0" />
    <parent
      link="link_ra5" />
    <child
      link="link_ra6" />
    <axis
      xyz="1 0 0" />
    <limit
      lower="-0.855"
      upper="1.099"
      effort="40"
      velocity="5" />
  </joint>
  
  <!-- right hand -->
  <link
    name="hand_Link_R">
    <inertial>
      <origin
        xyz="0.0015901 0.000425 -0.066297"
        rpy="0 0 0" />
      <mass
        value="0.37266" />
      <inertia
        ixx="0.00032635"
        ixy="-2.66E-06"
        ixz="-1.727E-05"
        iyy="0.0004347"
        iyz="1.723E-05"
        izz="0.0001747" />
    </inertial>
    <visual>
      <origin
        xyz="0 0 0"
        rpy="0 0 0" />
      <geometry>
        <mesh
          filename="../meshes/hand_Link_R.STL" />
      </geometry>
      <material
        name="">
        <color
          rgba="0.75294 0.75294 0.75294 1" />
      </material>
    </visual>
    <collision>
      <origin
        xyz="0 0 0"
        rpy="0 0 0" />
      <geometry>
        <mesh
          filename="../meshes/hand_Link_R.STL" />
      </geometry>
    </collision>
  </link>
  <joint
    name="joint_ra7"
    type="revolute">
    <origin
      xyz="0 0 0"
      rpy="0 0 0" />
    <parent
      link="link_ra6" />
    <child
      link="hand_Link_R" />
    <axis
      xyz="0 1 0" />
    <limit
      lower="-1.2036"
      upper="0.857"
      effort="0"
      velocity="0" />
  </joint>

  <!-- hand -->
    <link
    name="little1_Link">
    <inertial>
      <origin
        xyz="1.2E-06 0.0042414 -0.015528"
        rpy="0 0 0" />
      <mass
        value="0.013844" />
      <inertia
        ixx="1.89E-06"
        ixy="0"
        ixz="0"
        iyy="1.86E-06"
        iyz="2E-08"
        izz="8E-07" />
    </inertial>
    <visual>
      <origin
        xyz="0 0 0"
        rpy="0 0 0" />
      <geometry>
        <mesh
          filename="../meshes/little1_Link.STL" />
      </geometry>
      <material
        name="">
        <color
          rgba="0.75 0.75 0.75 1" />
      </material>
    </visual>
    <collision>
      <origin
        xyz="0 0 0"
        rpy="0 0 0" />
      <geometry>
        <mesh
          filename="../meshes/little1_Link.STL" />
      </geometry>
    </collision>
  </link>
  <joint
    name="left_f1"
    type="revolute">
    <origin
      xyz="-0.025767 0 -0.103"
      rpy="0 0.069813 0" />
    <parent
      link="hand_link" />
    <child
      link="little1_Link" />
    <axis
      xyz="1 0 0" />
    <limit
      lower="-1.57"
      upper="1.57"
      effort="100"
      velocity="100" />
  </joint>

  <link
    name="ring1_Link">
    <inertial>
      <origin
        xyz="1.2E-06 0.0042414 -0.015528"
        rpy="0 0 0" />
      <mass
        value="0.013844" />
      <inertia
        ixx="1.89E-06"
        ixy="0"
        ixz="0"
        iyy="1.86E-06"
        iyz="2E-08"
        izz="8E-07" />
    </inertial>
    <visual>
      <origin
        xyz="0 0 0"
        rpy="0 0 0" />
      <geometry>
        <mesh
          filename="../meshes/ring1_Link.STL" />
      </geometry>
      <material
        name="">
        <color
          rgba="0.75294 0.75294 0.75294 1" />
      </material>
    </visual>
    <collision>
      <origin
        xyz="0 0 0"
        rpy="0 0 0" />
      <geometry>
        <mesh
          filename="../meshes/ring1_Link.STL" />
      </geometry>
    </collision>
  </link>
  <joint
    name="left_f2"
    type="revolute">
    <origin
      xyz="-0.0079651 0 -0.108"
      rpy="0 0.034907 0" />
    <parent
      link="hand_link" />
    <child
      link="ring1_Link" />
    <axis
      xyz="1 0 0" />
    <limit
      lower="-1.57"
      upper="1.57"
      effort="100"
      velocity="100" />
  </joint>

  <link
    name="middle1_Link">
    <inertial>
      <origin
        xyz="1.2E-06 0.0042414 -0.015528"
        rpy="0 0 0" />
      <mass
        value="0.013844" />
      <inertia
        ixx="1.89E-06"
        ixy="0"
        ixz="0"
        iyy="1.86E-06"
        iyz="2E-08"
        izz="8E-07" />
    </inertial>
    <visual>
      <origin
        xyz="0 0 0"
        rpy="0 0 0" />
      <geometry>
        <mesh
          filename="../meshes/middle1_Link.STL" />
      </geometry>
      <material
        name="">
        <color
          rgba="0.75294 0.75294 0.75294 1" />
      </material>
    </visual>
    <collision>
      <origin
        xyz="0 0 0"
        rpy="0 0 0" />
      <geometry>
        <mesh
          filename="../meshes/middle1_Link.STL" />
      </geometry>
    </collision>
  </link>
  <joint
    name="left_f3"
    type="revolute">
    <origin
      xyz="0.01 0 -0.118"
      rpy="0 0 0" />
    <parent
      link="hand_link" />
    <child
      link="middle1_Link" />
    <axis
      xyz="1 0 0" />
    <limit
      lower="-1.57"
      upper="1.57"
      effort="100"
      velocity="100" />
  </joint>

  <link
    name="forefinger1_Link">
    <inertial>
      <origin
        xyz="1.2E-06 0.0042414 -0.015528"
        rpy="0 0 0" />
      <mass
        value="0.013844" />
      <inertia
        ixx="1.89E-06"
        ixy="0"
        ixz="0"
        iyy="1.86E-06"
        iyz="2E-08"
        izz="8E-07" />
    </inertial>
    <visual>
      <origin
        xyz="0 0 0"
        rpy="0 0 0" />
      <geometry>
        <mesh
          filename="../meshes/forefinger1_Link.STL" />
      </geometry>
      <material
        name="">
        <color
          rgba="0.75294 0.75294 0.75294 1" />
      </material>
    </visual>
    <collision>
      <origin
        xyz="0 0 0"
        rpy="0 0 0" />
      <geometry>
        <mesh
          filename="../meshes/forefinger1_Link.STL" />
      </geometry>
    </collision>
  </link>
  <joint
    name="left_f4"
    type="revolute">
    <origin
      xyz="0.027965 0 -0.108"
      rpy="0 -0.034907 0" />
    <parent
      link="hand_link" />
    <child
      link="forefinger1_Link" />
    <axis
      xyz="1 0 0" />
    <limit
      lower="-1.57"
      upper="1.57"
      effort="100"
      velocity="100" />
  </joint>

  <link
    name="thumb2_Link">
    <inertial>
      <origin
        xyz="0.025676 -1.744E-05 -0.015549"
        rpy="0 0 0" />
      <mass
        value="0.062258" />
      <inertia
        ixx="6.49E-06"
        ixy="1E-08"
        ixz="-3.26E-06"
        iyy="1.397E-05"
        iyz="1E-08"
        izz="1.01E-05" />
    </inertial>
    <visual>
      <origin
        xyz="0 0 0"
        rpy="0 0 0" />
      <geometry>
        <mesh
          filename="../meshes/thumb2_Link.STL" />
      </geometry>
      <material
        name="">
        <color
          rgba="0.75294 0.75294 0.75294 1" />
      </material>
    </visual>
    <collision>
      <origin
        xyz="0 0 0"
        rpy="0 0 0" />
      <geometry>
        <mesh
          filename="../meshes/thumb2_Link.STL" />
      </geometry>
    </collision>
  </link>
  <joint
    name="left_f5"
    type="revolute">
    <origin
      xyz="0.021 0 0"
      rpy="0 0 0" />
    <parent
      link="thumb1_Link" />
    <child
      link="thumb2_Link" />
    <axis
      xyz="0 1 0" />
    <limit
      lower="-1.57"
      upper="1.57"
      effort="100"
      velocity="100" />
  </joint>

  <link
    name="thumb1_Link">
    <inertial>
      <origin
        xyz="0.00901 0.00019469 -0.0030123"
        rpy="0 0 0" />
      <mass
        value="0.019785" />
      <inertia
        ixx="5.2E-07"
        ixy="5.2E-07"
        ixz="9E-08"
        iyy="1.34E-06"
        iyz="0"
        izz="1.21E-06" />
    </inertial>
    <visual>
      <origin
        xyz="0 0 0"
        rpy="0 0 0" />
      <geometry>
        <mesh
          filename="../meshes/thumb1_Link.STL" />
      </geometry>
      <material
        name="">
        <color
          rgba="0.64706 0.61961 0.58824 1" />
      </material>
    </visual>
    <collision>
      <origin
        xyz="0 0 0"
        rpy="0 0 0" />
      <geometry>
        <mesh
          filename="../meshes/thumb1_Link.STL" />
      </geometry>
    </collision>
  </link>
  <joint
    name="left_f6"
    type="revolute">
    <origin
      xyz="0.024855 -0.017 -0.0315"
      rpy="0 0 0" />
    <parent
      link="hand_link" />
    <child
      link="thumb1_Link" />
    <axis
      xyz="0 0 1" />
    <limit
      lower="-1.57"
      upper="1.57"
      effort="100"
      velocity="100" />
  </joint>


  <link
    name="little1_Link_R">
    <inertial>
      <origin
        xyz="1.97E-06 -0.0042411 -0.015528"
        rpy="0 0 0" />
      <mass
        value="0.013844" />
      <inertia
        ixx="1.89E-06"
        ixy="0"
        ixz="0"
        iyy="1.86E-06"
        iyz="-2E-08"
        izz="8E-07" />
    </inertial>
    <visual>
      <origin
        xyz="0 0 0"
        rpy="0 0 0" />
      <geometry>
        <mesh
          filename="../meshes/little1_Link_R.STL" />
      </geometry>
      <material
        name="">
        <color
          rgba="0.75294 0.75294 0.75294 1" />
      </material>
    </visual>
    <collision>
      <origin
        xyz="0 0 0"
        rpy="0 0 0" />
      <geometry>
        <mesh
          filename="../meshes/little1_Link_R.STL" />
      </geometry>
    </collision>
  </link>
  <joint
    name="right_f1"
    type="revolute">
    <origin
      xyz="-0.025767 0 -0.103"
      rpy="0 0.069813 0" />
    <parent
      link="hand_Link_R" />
    <child
      link="little1_Link_R" />
    <axis
      xyz="1 0 0" />
    <limit
      lower="-1.57"
      upper="1.57"
      effort="100"
      velocity="100" />
  </joint>

  <link
    name="ring1_Link_R">
    <inertial>
      <origin
        xyz="1.97E-06 -0.0042411 -0.015528"
        rpy="0 0 0" />
      <mass
        value="0.013844" />
      <inertia
        ixx="1.89E-06"
        ixy="0"
        ixz="0"
        iyy="1.86E-06"
        iyz="-2E-08"
        izz="8E-07" />
    </inertial>
    <visual>
      <origin
        xyz="0 0 0"
        rpy="0 0 0" />
      <geometry>
        <mesh
          filename="../meshes/ring1_Link_R.STL" />
      </geometry>
      <material
        name="">
        <color
          rgba="0.75294 0.75294 0.75294 1" />
      </material>
    </visual>
    <collision>
      <origin
        xyz="0 0 0"
        rpy="0 0 0" />
      <geometry>
        <mesh
          filename="../meshes/ring1_Link_R.STL" />
      </geometry>
    </collision>
  </link>
  <joint
    name="right_f2"
    type="revolute">
    <origin
      xyz="-0.0079651 0 -0.108"
      rpy="0 0.034907 0" />
    <parent
      link="hand_Link_R" />
    <child
      link="ring1_Link_R" />
    <axis
      xyz="1 0 0" />
    <limit
      lower="-1.57"
      upper="1.57"
      effort="100"
      velocity="100" />
  </joint>

  <link
    name="middle1_Link_R">
    <inertial>
      <origin
        xyz="1.97E-06 -0.0042411 -0.015528"
        rpy="0 0 0" />
      <mass
        value="0.013844" />
      <inertia
        ixx="1.89E-06"
        ixy="0"
        ixz="0"
        iyy="1.86E-06"
        iyz="-2E-08"
        izz="8E-07" />
    </inertial>
    <visual>
      <origin
        xyz="0 0 0"
        rpy="0 0 0" />
      <geometry>
        <mesh
          filename="../meshes/middle1_Link_R.STL" />
      </geometry>
      <material
        name="">
        <color
          rgba="0.75294 0.75294 0.75294 1" />
      </material>
    </visual>
    <collision>
      <origin
        xyz="0 0 0"
        rpy="0 0 0" />
      <geometry>
        <mesh
          filename="../meshes/middle1_Link_R.STL" />
      </geometry>
    </collision>
  </link>
  <joint
    name="right_f3"
    type="revolute">
    <origin
      xyz="0.01 0 -0.118"
      rpy="0 0 0" />
    <parent
      link="hand_Link_R" />
    <child
      link="middle1_Link_R" />
    <axis
      xyz="1 0 0" />
    <limit
      lower="-1.57"
      upper="1.57"
      effort="100"
      velocity="100" />
  </joint>


  <link
    name="forefinger1_Link_R">
    <inertial>
      <origin
        xyz="1.97E-06 -0.0042411 -0.015528"
        rpy="0 0 0" />
      <mass
        value="0.013844" />
      <inertia
        ixx="1.89E-06"
        ixy="0"
        ixz="0"
        iyy="1.86E-06"
        iyz="-2E-08"
        izz="8E-07" />
    </inertial>
    <visual>
      <origin
        xyz="0 0 0"
        rpy="0 0 0" />
      <geometry>
        <mesh
          filename="../meshes/forefinger1_Link_R.STL" />
      </geometry>
      <material
        name="">
        <color
          rgba="0.75294 0.75294 0.75294 1" />
      </material>
    </visual>
    <collision>
      <origin
        xyz="0 0 0"
        rpy="0 0 0" />
      <geometry>
        <mesh
          filename="../meshes/forefinger1_Link_R.STL" />
      </geometry>
    </collision>
  </link>
  <joint
    name="right_f4"
    type="revolute">
    <origin
      xyz="0.027965 0 -0.108"
      rpy="0 -0.034907 0" />
    <parent
      link="hand_Link_R" />
    <child
      link="forefinger1_Link_R" />
    <axis
      xyz="1 0 0" />
    <limit
      lower="-1.57"
      upper="1.57"
      effort="100"
      velocity="100" />
  </joint>

  <link
    name="thumb2_Link_R">
    <inertial>
      <origin
        xyz="0.025676 1.789E-05 -0.015549"
        rpy="0 0 0" />
      <mass
        value="0.062259" />
      <inertia
        ixx="6.49E-06"
        ixy="-1E-08"
        ixz="-3.26E-06"
        iyy="1.397E-05"
        iyz="-1E-08"
        izz="1.01E-05" />
    </inertial>
    <visual>
      <origin
        xyz="0 0 0"
        rpy="0 0 0" />
      <geometry>
        <mesh
          filename="../meshes/thumb2_Link_R.STL" />
      </geometry>
      <material
        name="">
        <color
          rgba="0.75294 0.75294 0.75294 1" />
      </material>
    </visual>
    <collision>
      <origin
        xyz="0 0 0"
        rpy="0 0 0" />
      <geometry>
        <mesh
          filename="../meshes/thumb2_Link_R.STL" />
      </geometry>
    </collision>
  </link>
  <joint
    name="right_f5"
    type="revolute">
    <origin
      xyz="0.021 0 0"
      rpy="0 0 0" />
    <parent
      link="thumb1_Link_R" />
    <child
      link="thumb2_Link_R" />
    <axis
      xyz="0 1 0" />
    <limit
      lower="-1.57"
      upper="1.57"
      effort="100"
      velocity="100" />
  </joint>

  <link
    name="thumb1_Link_R">
    <inertial>
      <origin
        xyz="0.00901 -0.00019469 -0.0030123"
        rpy="0 0 0" />
      <mass
        value="0.019785" />
      <inertia
        ixx="5.2E-07"
        ixy="5E-08"
        ixz="9E-08"
        iyy="1.34E-06"
        iyz="0"
        izz="1.21E-06" />
    </inertial>
    <visual>
      <origin
        xyz="0 0 0"
        rpy="0 0 0" />
      <geometry>
        <mesh
          filename="../meshes/thumb1_Link_R.STL" />
      </geometry>
      <material
        name="">
        <color
          rgba="0.75294 0.75294 0.75294 1" />
      </material>
    </visual>
    <collision>
      <origin
        xyz="0 0 0"
        rpy="0 0 0" />
      <geometry>
        <mesh
          filename="../meshes/thumb1_Link_R.STL" />
      </geometry>
    </collision>
  </link>
  <joint
    name="right_f6"
    type="revolute">
    <origin
      xyz="0.024855 0.017 -0.0315"
      rpy="0 0 0" />
    <parent
      link="hand_Link_R" />
    <child
      link="thumb1_Link_R" />
    <axis
      xyz="0 0 1" />
    <limit
      lower="-1.57"
      upper="1.57"
      effort="100"
      velocity="100" />
  </joint>


  <link
    name="little2_Link">
    <inertial>
      <origin
        xyz="0 0.002683 -0.020947"
        rpy="0 0 0" />
      <mass
        value="0.01314" />
      <inertia
        ixx="2.7E-06"
        ixy="0"
        ixz="0"
        iyy="2.71E-06"
        iyz="1E-07"
        izz="3E-07" />
    </inertial>
    <visual>
      <origin
        xyz="0 0 0"
        rpy="0 0 0" />
      <geometry>
        <mesh
          filename="../meshes/little2_Link.STL" />
      </geometry>
      <material
        name="">
        <color
          rgba="0.75294 0.75294 0.75294 1" />
      </material>
    </visual>
    <collision>
      <origin
        xyz="0 0 0"
        rpy="0 0 0" />
      <geometry>
        <mesh
          filename="../meshes/little2_Link.STL" />
      </geometry>
    </collision>
  </link>
  <joint
    name="left_f1_2"
    type="revolute">
    <origin
      xyz="0 0.001912 -0.035148"
      rpy="0 0 0" />
    <parent
      link="little1_Link" />
    <child
      link="little2_Link" />
    <axis
      xyz="1 0 0" />
    <limit
      lower="-1.57"
      upper="1.57"
      effort="100"
      velocity="100" />
    <mimic joint="left_f1" multiplier="1.0" offset="0.0"/>
  </joint>

  <link
    name="ring2_Link">
    <inertial>
      <origin
        xyz="0 0.002683 -0.020947"
        rpy="0 0 0" />
      <mass
        value="0.01314" />
      <inertia
        ixx="2.7E-06"
        ixy="0"
        ixz="0"
        iyy="2.71E-06"
        iyz="1E-07"
        izz="3E-07" />
    </inertial>
    <visual>
      <origin
        xyz="0 0 0"
        rpy="0 0 0" />
      <geometry>
        <mesh
          filename="../meshes/ring2_Link.STL" />
      </geometry>
      <material
        name="">
        <color
          rgba="0.75294 0.75294 0.75294 1" />
      </material>
    </visual>
    <collision>
      <origin
        xyz="0 0 0"
        rpy="0 0 0" />
      <geometry>
        <mesh
          filename="../meshes/ring2_Link.STL" />
      </geometry>
    </collision>
  </link>
  <joint
    name="left_f2_2"
    type="revolute">
    <origin
      xyz="0 0.001912 -0.035148"
      rpy="0 0 0" />
    <parent
      link="ring1_Link" />
    <child
      link="ring2_Link" />
    <axis
      xyz="1 0 0" />
    <limit
      lower="-1.57"
      upper="1.57"
      effort="100"
      velocity="100" />
    <mimic joint="left_f2" multiplier="1.0" offset="0.0"/>
  </joint>

  <link
    name="middle2_Link">
    <inertial>
      <origin
        xyz="0 0.002683 -0.020947"
        rpy="0 0 0" />
      <mass
        value="0.01314" />
      <inertia
        ixx="2.7E-06"
        ixy="0"
        ixz="0"
        iyy="2.71E-06"
        iyz="1E-07"
        izz="3E-07" />
    </inertial>
    <visual>
      <origin
        xyz="0 0 0"
        rpy="0 0 0" />
      <geometry>
        <mesh
          filename="../meshes/middle2_Link.STL" />
      </geometry>
      <material
        name="">
        <color
          rgba="0.75294 0.75294 0.75294 1" />
      </material>
    </visual>
    <collision>
      <origin
        xyz="0 0 0"
        rpy="0 0 0" />
      <geometry>
        <mesh
          filename="../meshes/middle2_Link.STL" />
      </geometry>
    </collision>
  </link>
  <joint
    name="left_f3_2"
    type="revolute">
    <origin
      xyz="0 0.001912 -0.035148"
      rpy="0 0 0" />
    <parent
      link="middle1_Link" />
    <child
      link="middle2_Link" />
    <axis
      xyz="1 0 0" />
    <limit
      lower="-1.57"
      upper="1.57"
      effort="100"
      velocity="100" />
    <mimic joint="left_f3" multiplier="1.0" offset="0.0"/>
  </joint>

  <link
    name="forefinger2_Link">
    <inertial>
      <origin
        xyz="0 0.002683 -0.020947"
        rpy="0 0 0" />
      <mass
        value="0.01314" />
      <inertia
        ixx="2.7E-06"
        ixy="0"
        ixz="0"
        iyy="2.71E-06"
        iyz="1E-07"
        izz="3E-07" />
    </inertial>
    <visual>
      <origin
        xyz="0 0 0"
        rpy="0 0 0" />
      <geometry>
        <mesh
          filename="../meshes/forefinger2_Link.STL" />
      </geometry>
      <material
        name="">
        <color
          rgba="0.75294 0.75294 0.75294 1" />
      </material>
    </visual>
    <collision>
      <origin
        xyz="0 0 0"
        rpy="0 0 0" />
      <geometry>
        <mesh
          filename="../meshes/forefinger2_Link.STL" />
      </geometry>
    </collision>
  </link>
  <joint
    name="left_f4_2"
    type="revolute">
    <origin
      xyz="0 0.001912 -0.035148"
      rpy="0 0 0" />
    <parent
      link="forefinger1_Link" />
    <child
      link="forefinger2_Link" />
    <axis
      xyz="1 0 0" />
    <limit
      lower="-1.57"
      upper="1.57"
      effort="100"
      velocity="100" />
    <mimic joint="left_f4" multiplier="1.0" offset="0.0"/>
  </joint>

  <link
    name="thumb3_Link">
    <inertial>
      <origin
        xyz="0.013402 -1.56E-06 0.00085125"
        rpy="0 0 0" />
      <mass
        value="0.026397" />
      <inertia
        ixx="2.46E-06"
        ixy="0"
        ixz="-1.45E-06"
        iyy="4.43E-06"
        iyz="0"
        izz="2.92E-06" />
    </inertial>
    <visual>
      <origin
        xyz="0 0 0"
        rpy="0 0 0" />
      <geometry>
        <mesh
          filename="../meshes/thumb3_Link.STL" />
      </geometry>
      <material
        name="">
        <color
          rgba="0.75294 0.75294 0.75294 1" />
      </material>
    </visual>
    <collision>
      <origin
        xyz="0 0 0"
        rpy="0 0 0" />
      <geometry>
        <mesh
          filename="../meshes/thumb3_Link.STL" />
      </geometry>
    </collision>
  </link>
  <joint
    name="left_f5_2"
    type="revolute">
    <origin
      xyz="0.050637 0 -0.040754"
      rpy="0 0 0" />
    <parent
      link="thumb2_Link" />
    <child
      link="thumb3_Link" />
    <axis
      xyz="0 1 0" />
    <limit
      lower="-1.57"
      upper="1.57"
      effort="100"
      velocity="100" />
    <mimic joint="left_f5" multiplier="1.0" offset="0.0"/>
  </joint>

  <link
    name="little2_Link_R">
    <inertial>
      <origin
        xyz="0 -0.0064608 -0.018503"
        rpy="0 0 0" />
      <mass
        value="0.013141" />
      <inertia
        ixx="2.7E-06"
        ixy="0"
        ixz="0"
        iyy="2.71E-06"
        iyz="-1E-07"
        izz="3E-07" />
    </inertial>
    <visual>
      <origin
        xyz="0 0 0"
        rpy="0 0 0" />
      <geometry>
        <mesh
          filename="../meshes/little2_Link_R.STL" />
      </geometry>
      <material
        name="">
        <color
          rgba="0.75294 0.75294 0.75294 1" />
      </material>
    </visual>
    <collision>
      <origin
        xyz="0 0 0"
        rpy="0 0 0" />
      <geometry>
        <mesh
          filename="../meshes/little2_Link_R.STL" />
      </geometry>
    </collision>
  </link>
  <joint
    name="right_f1_2"
    type="revolute">
    <origin
      xyz="0 0.0018659 -0.037593"
      rpy="0 0 0" />
    <parent
      link="little1_Link_R" />
    <child
      link="little2_Link_R" />
    <axis
      xyz="1 0 0" />
    <limit
      lower="-1.57"
      upper="1.57"
      effort="100"
      velocity="100" />
    <mimic joint="right_f1" multiplier="1.0" offset="0.0"/>
  </joint>

  <link
    name="ring2_Link_R">
    <inertial>
      <origin
        xyz="0 -0.0026829 -0.020948"
        rpy="0 0 0" />
      <mass
        value="0.013141" />
      <inertia
        ixx="2.7E-06"
        ixy="0"
        ixz="0"
        iyy="2.71E-06"
        iyz="-1E-07"
        izz="3E-07" />
    </inertial>
    <visual>
      <origin
        xyz="0 0 0"
        rpy="0 0 0" />
      <geometry>
        <mesh
          filename="../meshes/ring2_Link_R.STL" />
      </geometry>
      <material
        name="">
        <color
          rgba="0.75294 0.75294 0.75294 1" />
      </material>
    </visual>
    <collision>
      <origin
        xyz="0 0 0"
        rpy="0 0 0" />
      <geometry>
        <mesh
          filename="../meshes/ring2_Link_R.STL" />
      </geometry>
    </collision>
  </link>
  <joint
    name="right_f2_2"
    type="revolute">
    <origin
      xyz="0 -0.001912 -0.035148"
      rpy="0 0 0" />
    <parent
      link="ring1_Link_R" />
    <child
      link="ring2_Link_R" />
    <axis
      xyz="1 0 0" />
    <limit
      lower="-1.57"
      upper="1.57"
      effort="100"
      velocity="100" />
    <mimic joint="right_f2" multiplier="1.0" offset="0.0"/>
  </joint>

  <link
    name="middle2_Link_R">
    <inertial>
      <origin
        xyz="0 -0.0026829 -0.020948"
        rpy="0 0 0" />
      <mass
        value="0.013141" />
      <inertia
        ixx="2.7E-06"
        ixy="0"
        ixz="0"
        iyy="2.71E-06"
        iyz="-1E-07"
        izz="3E-07" />
    </inertial>
    <visual>
      <origin
        xyz="0 0 0"
        rpy="0 0 0" />
      <geometry>
        <mesh
          filename="../meshes/middle2_Link_R.STL" />
      </geometry>
      <material
        name="">
        <color
          rgba="0.75294 0.75294 0.75294 1" />
      </material>
    </visual>
    <collision>
      <origin
        xyz="0 0 0"
        rpy="0 0 0" />
      <geometry>
        <mesh
          filename="../meshes/middle2_Link_R.STL" />
      </geometry>
    </collision>
  </link>
  <joint
    name="right_f3_2"
    type="revolute">
    <origin
      xyz="0 -0.001912 -0.035148"
      rpy="0 0 0" />
    <parent
      link="middle1_Link_R" />
    <child
      link="middle2_Link_R" />
    <axis
      xyz="1 0 0" />
    <limit
      lower="-1.57"
      upper="1.57"
      effort="100"
      velocity="100" />
    <mimic joint="right_f3" multiplier="1.0" offset="0.0"/>
  </joint>

  <link
    name="forefinger2_Link_R">
    <inertial>
      <origin
        xyz="0 -0.0026829 -0.020948"
        rpy="0 0 0" />
      <mass
        value="0.013141" />
      <inertia
        ixx="2.7E-06"
        ixy="0"
        ixz="0"
        iyy="2.71E-06"
        iyz="-1E-07"
        izz="3E-07" />
    </inertial>
    <visual>
      <origin
        xyz="0 0 0"
        rpy="0 0 0" />
      <geometry>
        <mesh
          filename="../meshes/forefinger2_Link_R.STL" />
      </geometry>
      <material
        name="">
        <color
          rgba="0.75294 0.75294 0.75294 1" />
      </material>
    </visual>
    <collision>
      <origin
        xyz="0 0 0"
        rpy="0 0 0" />
      <geometry>
        <mesh
          filename="../meshes/forefinger2_Link_R.STL" />
      </geometry>
    </collision>
  </link>
  <joint
    name="right_f4_2"
    type="revolute">
    <origin
      xyz="0 -0.001912 -0.035148"
      rpy="0 0 0" />
    <parent
      link="forefinger1_Link_R" />
    <child
      link="forefinger2_Link_R" />
    <axis
      xyz="1 0 0" />
    <limit
      lower="-1.57"
      upper="1.57"
      effort="100"
      velocity="100" />
    <mimic joint="right_f4" multiplier="1.0" offset="0.0"/>
  </joint>

  <link
    name="thumb3_Link_R">
    <inertial>
      <origin
        xyz="0.013402 1.9E-06 0.00085094"
        rpy="0 0 0" />
      <mass
        value="0.026396" />
      <inertia
        ixx="2.46E-06"
        ixy="0"
        ixz="-1.45E-06"
        iyy="4.43E-06"
        iyz="0"
        izz="2.92E-06" />
    </inertial>
    <visual>
      <origin
        xyz="0 0 0"
        rpy="0 0 0" />
      <geometry>
        <mesh
          filename="../meshes/thumb3_Link_R.STL" />
      </geometry>
      <material
        name="">
        <color
          rgba="0.75294 0.75294 0.75294 1" />
      </material>
    </visual>
    <collision>
      <origin
        xyz="0 0 0"
        rpy="0 0 0" />
      <geometry>
        <mesh
          filename="../meshes/thumb3_Link_R.STL" />
      </geometry>
    </collision>
  </link>
  <joint
    name="right_f5_2"
    type="revolute">
    <origin
      xyz="0.050637 0 -0.040754"
      rpy="0 0 0" />
    <parent
      link="thumb2_Link_R" />
    <child
      link="thumb3_Link_R" />
    <axis
      xyz="0 1 0" />
    <limit
      lower="-1.57"
      upper="1.57"
      effort="100"
      velocity="100" />
    <mimic joint="right_f5" multiplier="1.0" offset="0.0"/>
  </joint>
  <link name="logo_link">
    <visual>
      <origin xyz="0 0 0" rpy="0 0 0" />
      <geometry>
        <mesh filename="../meshes/logo_link.STL" scale="1.5 1.5 1.5" />
      </geometry>
      <material name="gray">
        <color rgba="0.5 0.5 0.5 1" />
      </material>
    </visual>
  </link>
  <joint name="logo_joint" type="fixed">
    <origin xyz="-0.042 0 -0.272" rpy="0 0 0" />
    <parent link="link_wy" />
    <child link="logo_link" />
  </joint>
</robot>
